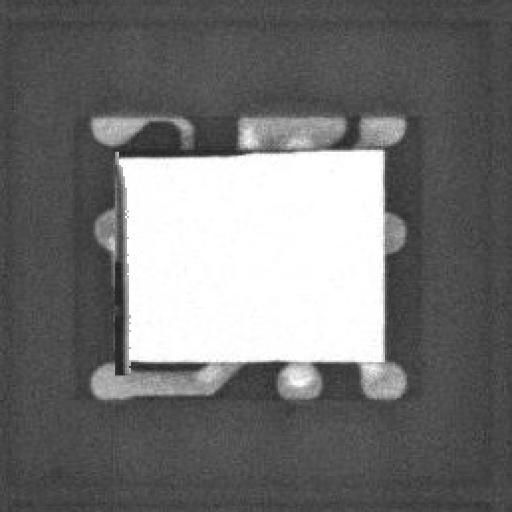DIE_BROKEN: (109, 158, 131, 374)
